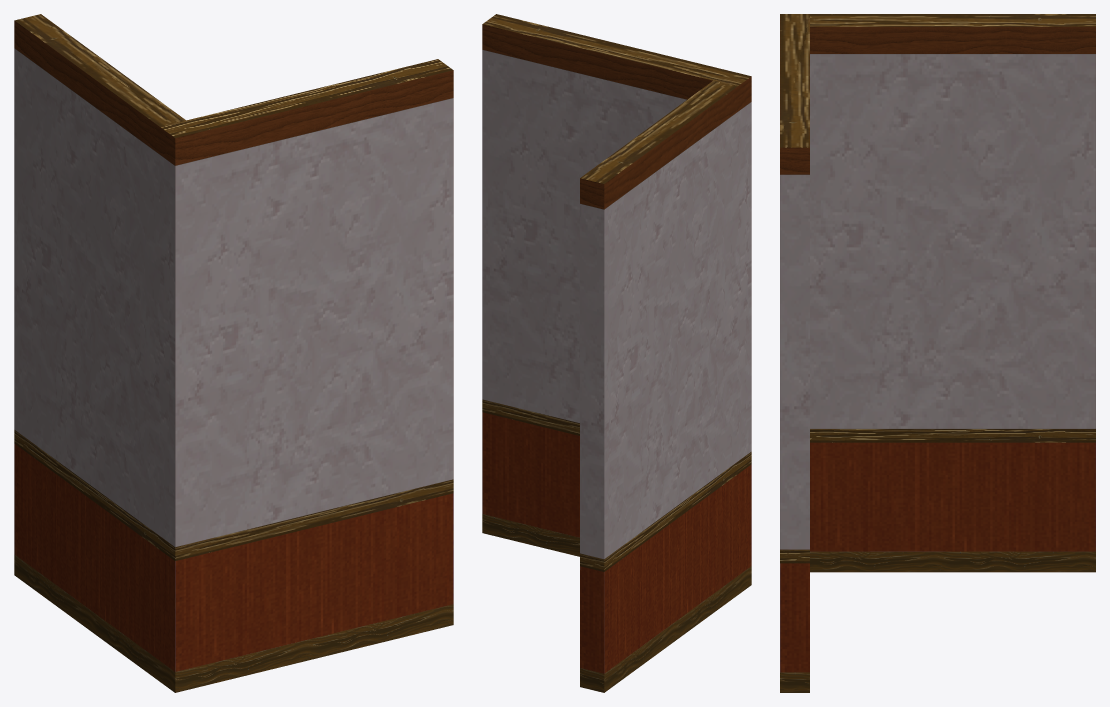
The model's file is SM_Wall_Corner_L_Stone.fbx.
3 renders of one model, left to right at view 1: azimuth 30°, elevation 25°; view 2: azimuth 150°, elevation 25°; view 3: azimuth 270°, elevation 25°, orthographic. The views are drawn at different scales.
Visible parts, largest first — view 1: SM_Wall_Corner_L_Stone; view 2: SM_Wall_Corner_L_Stone; view 3: SM_Wall_Corner_L_Stone.
Boxes of the visible parts, x1,y1,x2,y2 form: SM_Wall_Corner_L_Stone: (14,14,453,692); SM_Wall_Corner_L_Stone: (482,14,751,692); SM_Wall_Corner_L_Stone: (780,14,1095,692).
Bounding box in the file's own units: 2.1 × 4 × 2.1.
